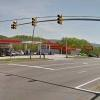Traffic light: (5, 13, 78, 33)
